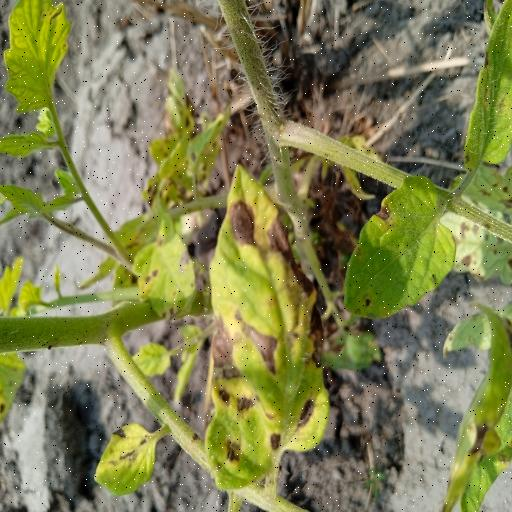Tomato_Brown_Spots: (204, 162, 328, 504), (343, 158, 461, 343)
